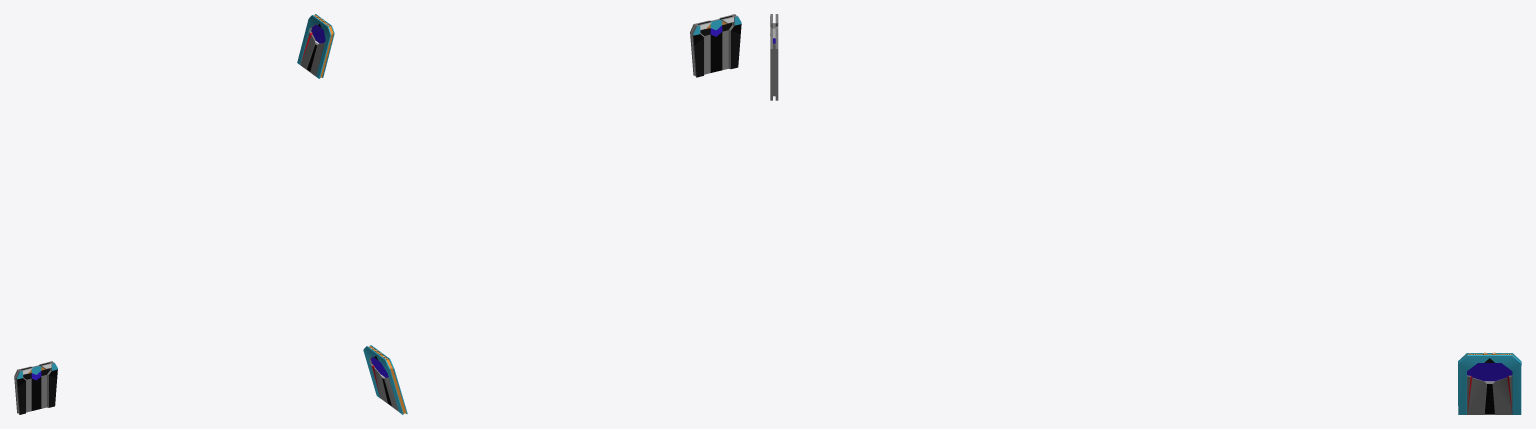
Rendered from CityDoors00.FBX.
The picture shows the model from 3 angles, left to right: view 1: azimuth 30°, elevation 25°; view 2: azimuth 210°, elevation 25°; view 3: azimuth 270°, elevation 25°; orthographic projection. The views are drawn at different scales.
Parts seen in each view (by area): view 1: Plane069, Plane071, Plane072, Plane070; view 2: Plane069, Plane071, Plane070, Plane072; view 3: Plane069.
Boxes of the visible parts, x1=… form: Plane069: x1=297, y1=14, x2=334, y2=78; Plane071: x1=14, y1=361, x2=57, y2=414; Plane072: x1=23, y1=366, x2=36, y2=412; Plane070: x1=36, y1=365, x2=49, y2=409; Plane069: x1=363, y1=345, x2=407, y2=414; Plane071: x1=690, y1=14, x2=741, y2=77; Plane070: x1=700, y1=20, x2=716, y2=74; Plane072: x1=715, y1=19, x2=731, y2=71; Plane069: x1=1458, y1=352, x2=1521, y2=414.
Bounding box in the file's own units: 44.32 × 5.77 × 36.06.
